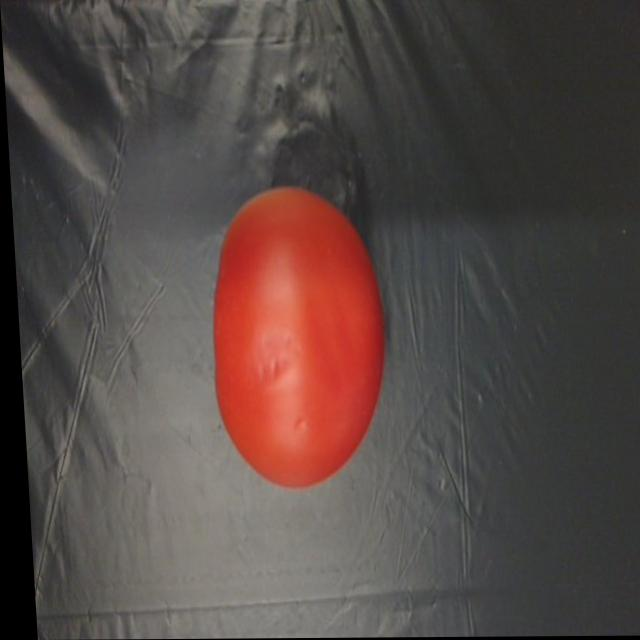kirmizi: (186, 158, 403, 492)
